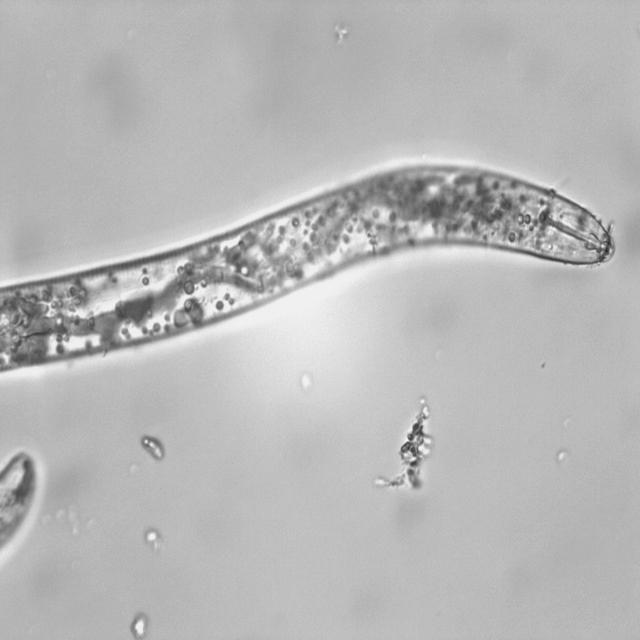Helicotylenchus: (0, 151, 612, 383)
